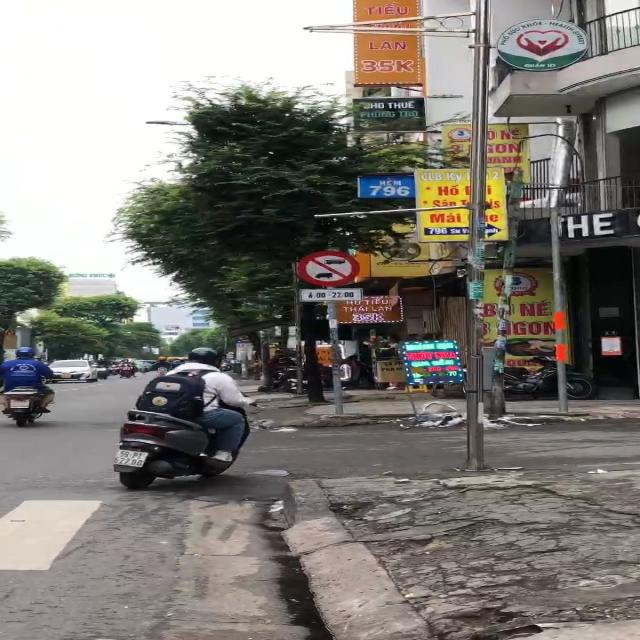Bien bao cam xe oto khach va xe oto tai: (293, 245, 360, 288)
